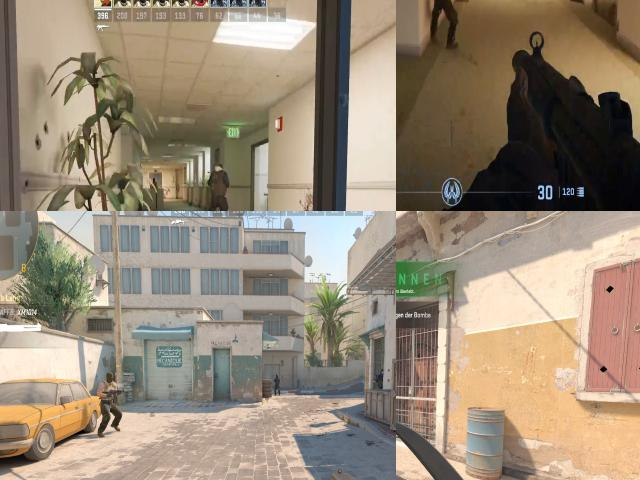CT: (206, 162, 231, 211), (376, 368, 385, 393), (274, 373, 280, 393)
CT-Head: (214, 162, 225, 179), (379, 368, 384, 374), (276, 374, 278, 380)
T: (104, 373, 115, 435)
T-Head: (106, 373, 114, 384)
